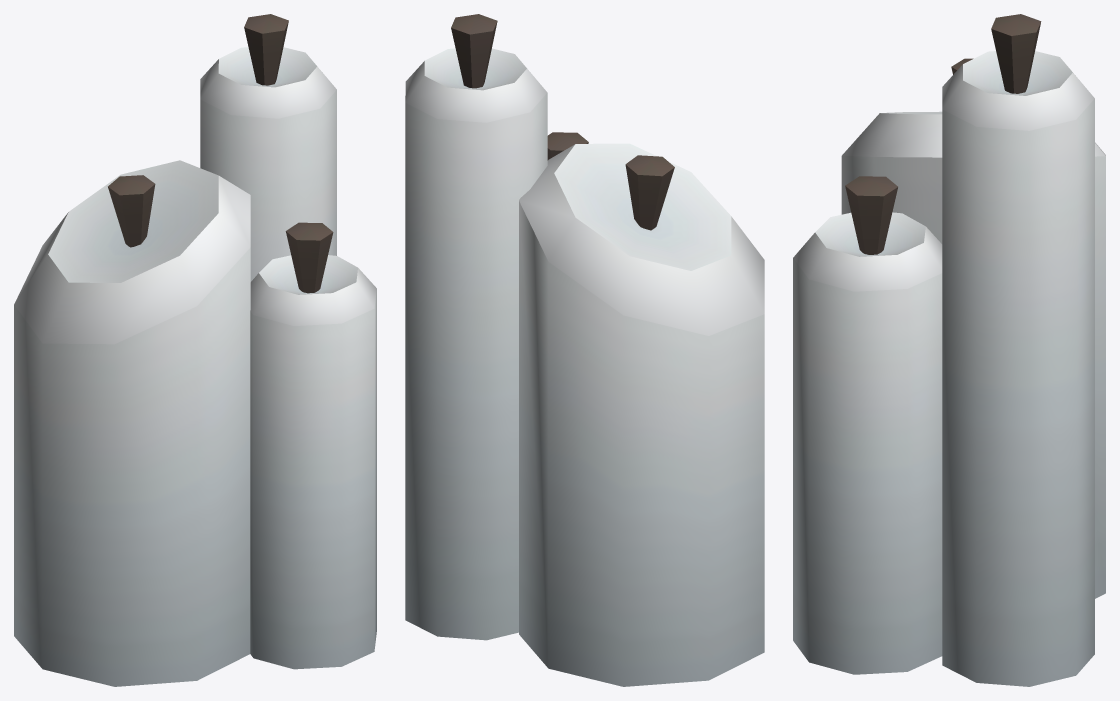
The model's file is ljusstake.glb.
The picture shows the model from 3 angles, left to right: view 1: azimuth 30°, elevation 25°; view 2: azimuth 150°, elevation 25°; view 3: azimuth 270°, elevation 25°; orthographic projection. The views are drawn at different scales.
Visible parts, largest first — view 1: candle_triple; view 2: candle_triple; view 3: candle_triple.
Part boxes in pixels (left/top/right/bottom): candle_triple: left=14, top=14, right=376, bottom=686; candle_triple: left=405, top=14, right=764, bottom=686; candle_triple: left=793, top=14, right=1105, bottom=686.
Size of the model in its own units: 0.451 by 0.7857 by 0.351.
1 material, 1 textured.
